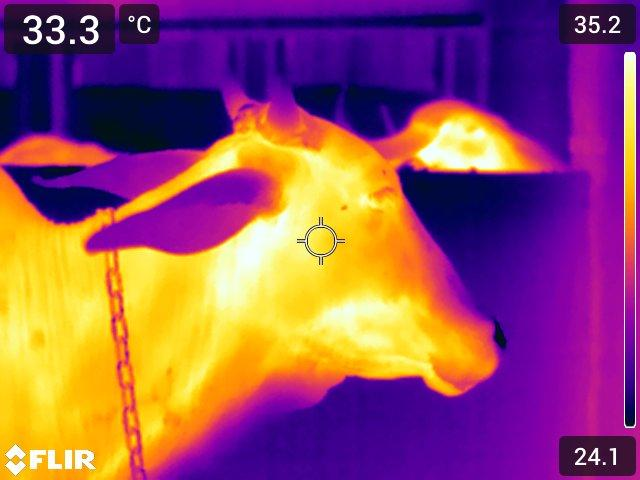ear: (80, 173, 318, 266)
eyes: (349, 166, 411, 236)
neck: (74, 212, 168, 480)
